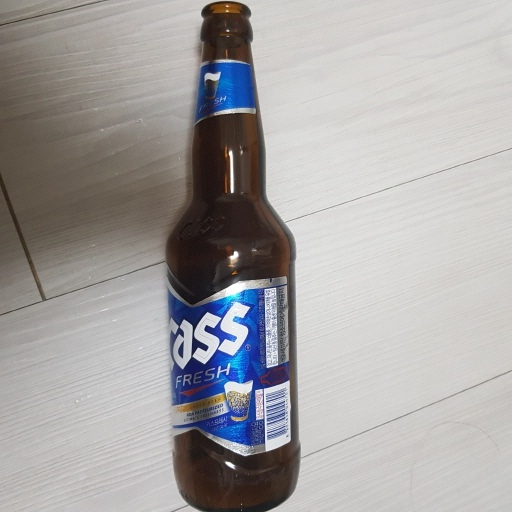Glass_1: (168, 3, 302, 510)
